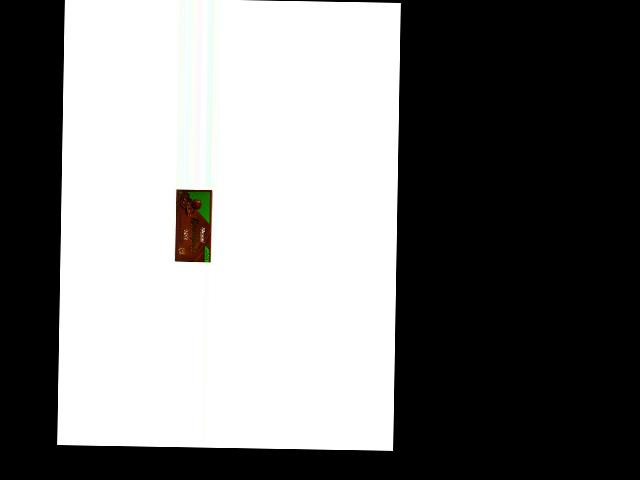chocolate: (173, 188, 215, 264)
